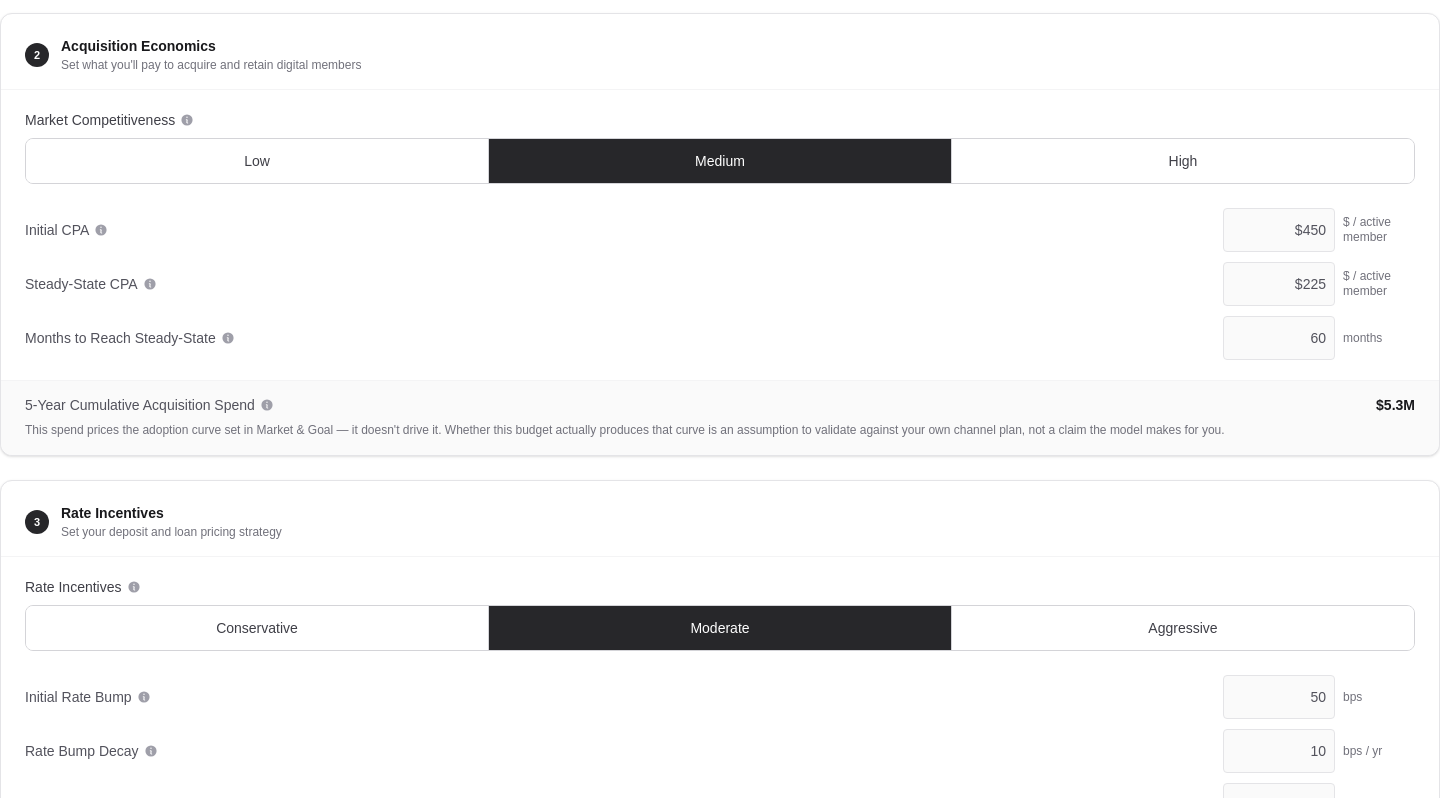
it: ModelInputs › 5-Year Cumulative Acquisition Spend › has a tooltip explaining what drives the number and that Market Competitiveness shifts it directly
The width and height of the screenshot is (1440, 798).
(page scrolled)
Hover over the button named "more information" next to "5-Year Cumulative Acquisition Spend".
mouse_move(267, 405)  # box 259,397 -> 275,413
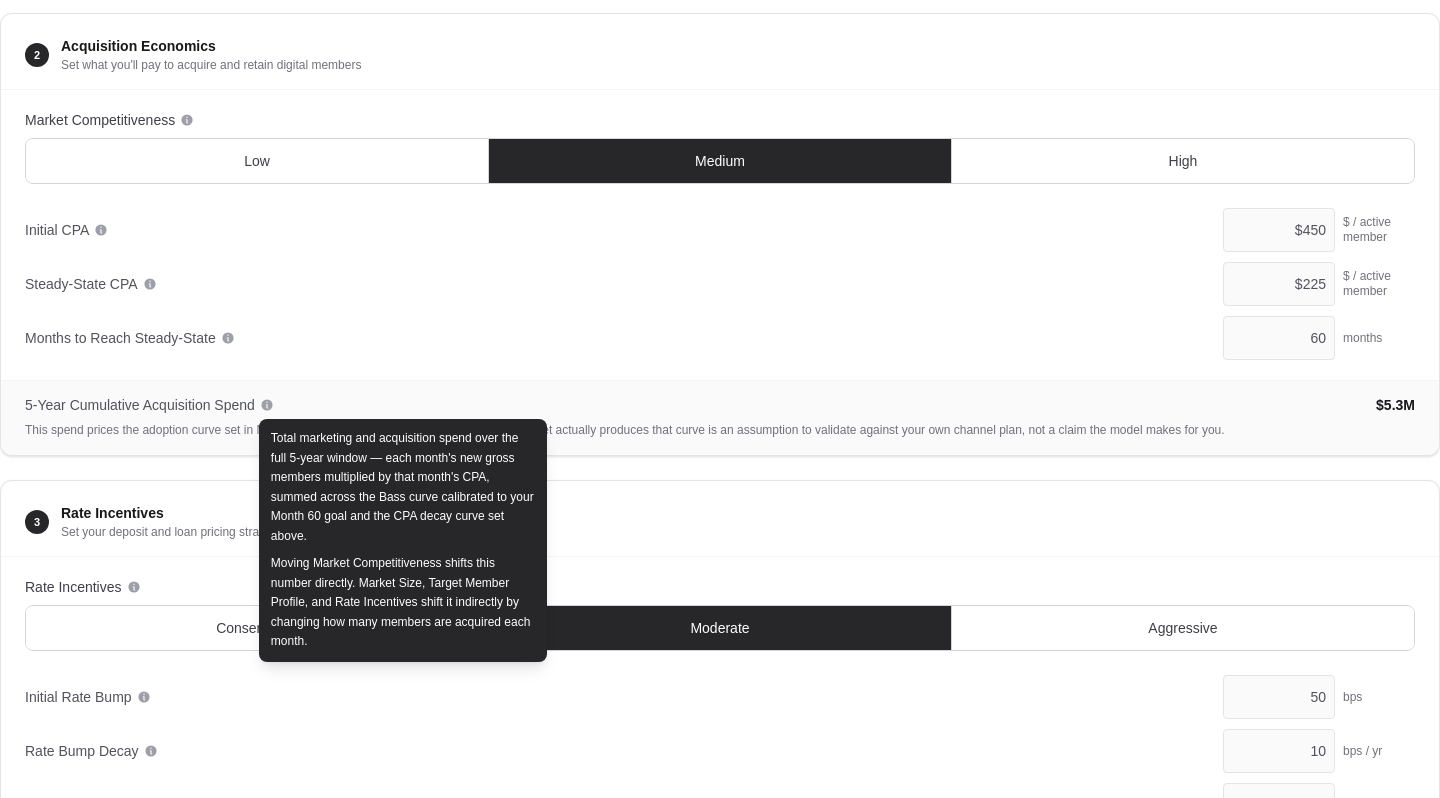
Check: the tooltip shows "Bass curve", box 271,431 -> 534,542
Check: the tooltip shows "Market Competitiveness", box 271,556 -> 530,648
